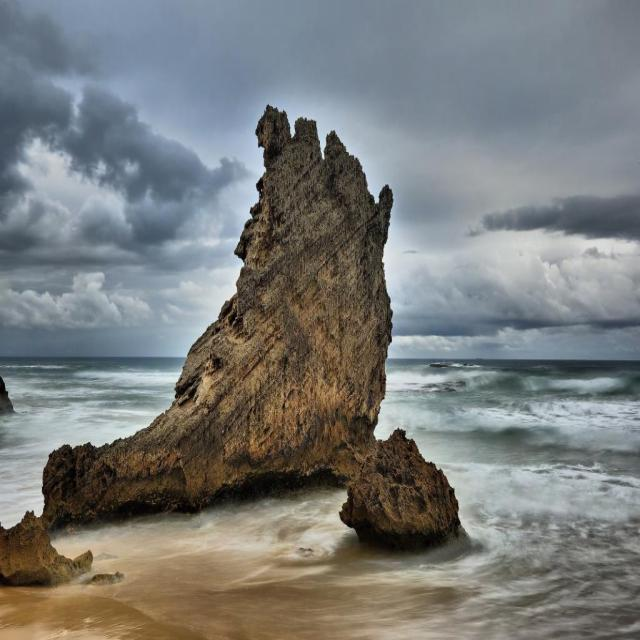reef: (41, 90, 451, 554)
